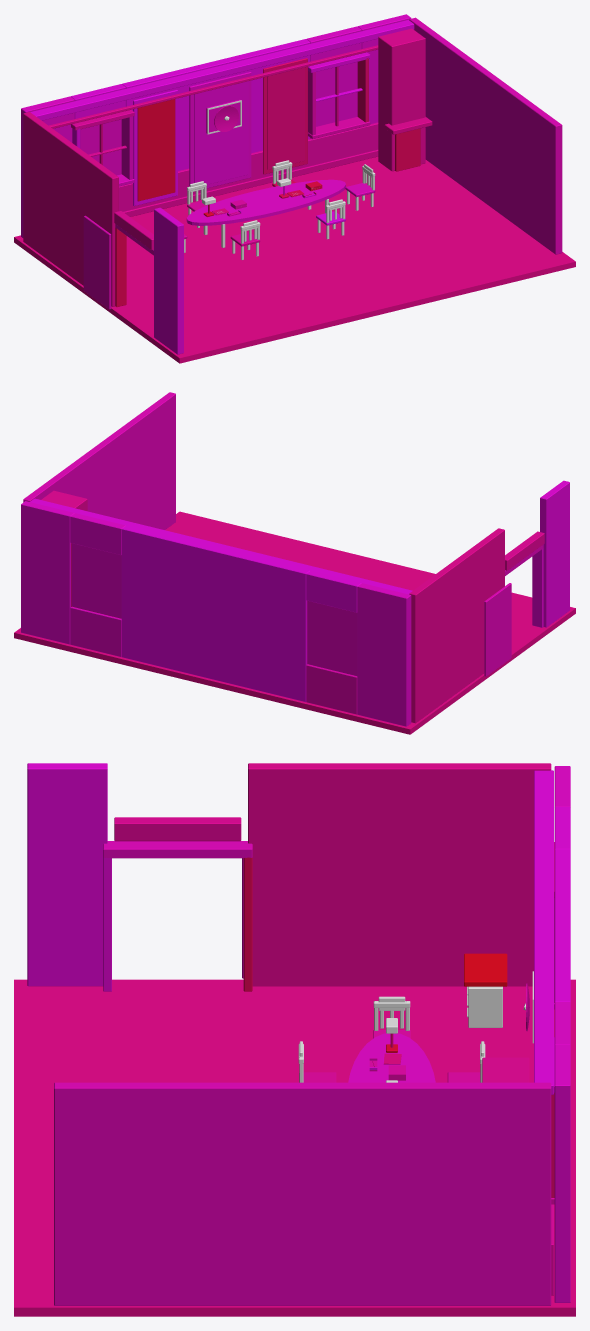
The model's file is court_chapter_11.glb.
3 renders of one model, top to bottom at view 1: azimuth 30°, elevation 25°; view 2: azimuth 150°, elevation 25°; view 3: azimuth 270°, elevation 25°, orthographic. The views are drawn at different scales.
Parts seen in each view (by area): view 1: Floor, WallRight, WallLeftRear, ChimneyBreast, CorniceRear, CabinetPanelInset_1, WallLeftFront, CabinetPanelInset_0, WallBackPier_1, CouncilTable, CabinetPanelInset_2, Wainscot (+27 smaller); view 2: WallBackPier_1, Floor, WallLeftRear, WallRight, WallBackPier_0, WallBackPier_end, WallLeftFront, Glazing_0, Glazing_1, OpenDoorLeaf, CorniceRear, WallBackLow_1 (+6 smaller); view 3: WallRight, WallLeftRear, Floor, WallLeftFront, CorniceRear, WallBackPier_end, DoorLintel, SecretaryStation, CouncilTable, EntranceHeader, WallBackPier_1, EntranceJamb_0.7 (+6 smaller).
Part boxes in pixels (<box>): Floor: <box>14,156,575,363</box>; WallRight: <box>409,17,562,254</box>; WallLeftRear: <box>23,112,118,306</box>; ChimneyBreast: <box>378,28,425,171</box>; CorniceRear: <box>30,20,414,120</box>; CabinetPanelInset_1: <box>194,81,248,184</box>; WallLeftFront: <box>154,207,183,354</box>; CabinetPanelInset_0: <box>137,99,175,201</box>; WallBackPier_1: <box>122,39,310,170</box>; CouncilTable: <box>186,179,345,247</box>; CabinetPanelInset_2: <box>267,67,304,169</box>; Wainscot: <box>119,122,378,211</box>; WallBackPier_1: <box>121,525,310,701</box>; Floor: <box>14,511,575,734</box>; WallLeftRear: <box>409,528,504,723</box>; WallRight: <box>23,392,175,529</box>; WallBackPier_0: <box>357,583,411,726</box>; WallBackPier_end: <box>21,501,74,644</box>; WallLeftFront: <box>540,480,569,627</box>; Glazing_0: <box>308,601,357,675</box>; Glazing_1: <box>72,543,121,617</box>; OpenDoorLeaf: <box>484,583,511,676</box>; CorniceRear: <box>30,498,412,594</box>; WallBackLow_1: <box>70,606,121,656</box>; WallRight: <box>54,1082,551,1305</box>; WallLeftRear: <box>248,763,551,986</box>; Floor: <box>14,979,575,1316</box>; WallLeftFront: <box>27,763,107,986</box>; CorniceRear: <box>534,770,553,1094</box>; WallBackPier_end: <box>554,1044,570,1302</box>; DoorLintel: <box>114,817,241,841</box>; SecretaryStation: <box>464,953,507,1027</box>; CouncilTable: <box>348,1033,435,1082</box>; EntranceHeader: <box>103,841,252,858</box>; WallBackPier_1: <box>554,849,570,1002</box>; EntranceJamb_0.7: <box>243,857,252,991</box>.
Bounding box in the file's own units: 11.7 × 3.75 × 8.4.
